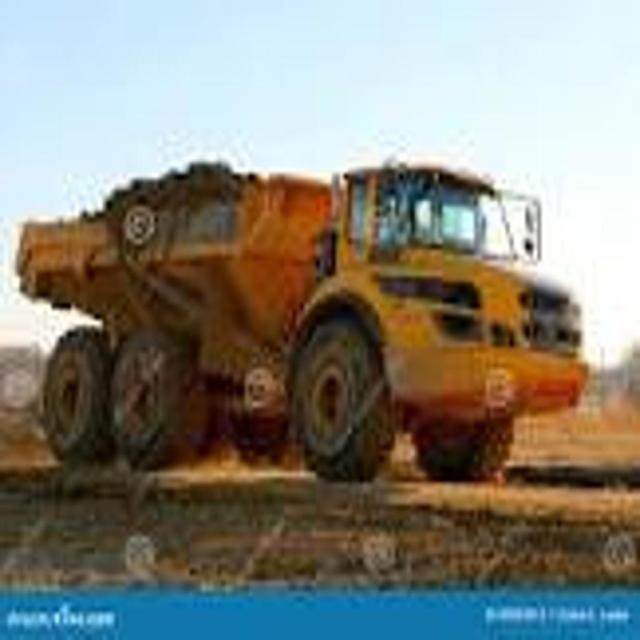dump_truck: (14, 130, 592, 505)
